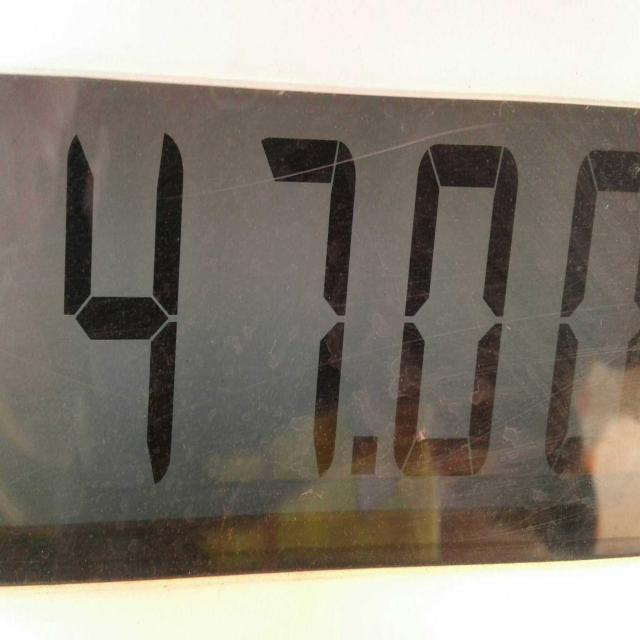.: (335, 406, 394, 506)
0: (386, 123, 523, 496), (547, 138, 640, 510)
7: (223, 109, 354, 511), (59, 115, 192, 496)
